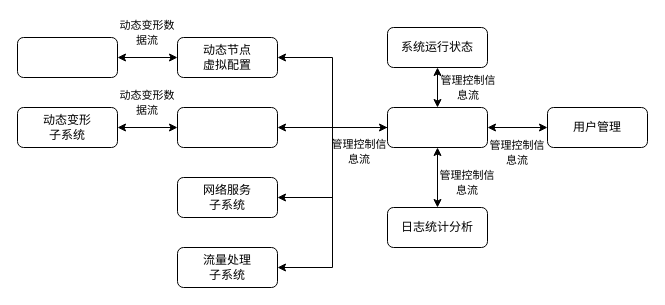
Some shapes in this 665 by 305 pixel diagram are drawn without their labels. The box of each missing label's shape, as (x1, y1, x2, y2) in pixels:
动态变形配置: (176, 106, 278, 148)
动态节点虚拟 子系统: (16, 36, 118, 78)
管理界面: (386, 106, 488, 148)
